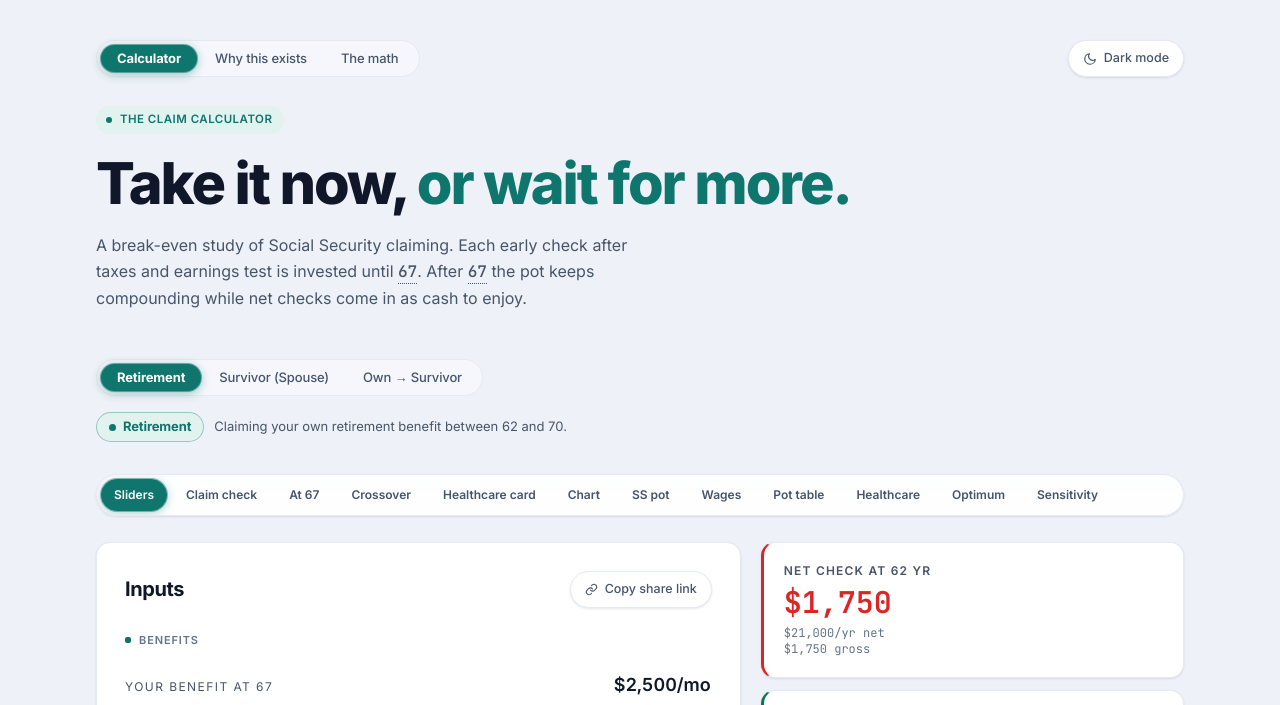
Test case: App — mode switching (white-page regression) › renders in survivor mode
What coordinates should you click on to do the following:
click the button "Survivor (Spouse)"
I would click on:
 (274, 378)
Its box is [203,364,345,391].
(page scrolled)
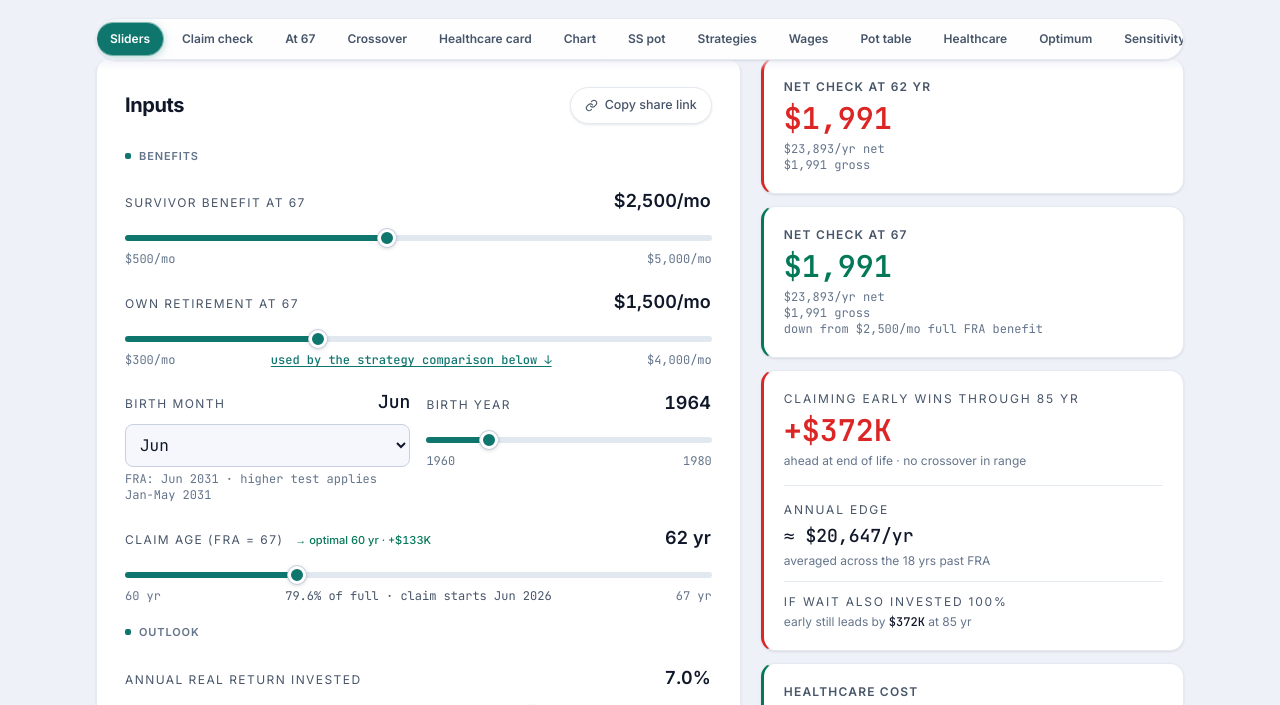
Expected: the text "Survivor benefit at 67" is shown, [125,195,306,211]
Expected: the button "used by the strategy comparison below ↓" is shown, [271,352,552,368]
